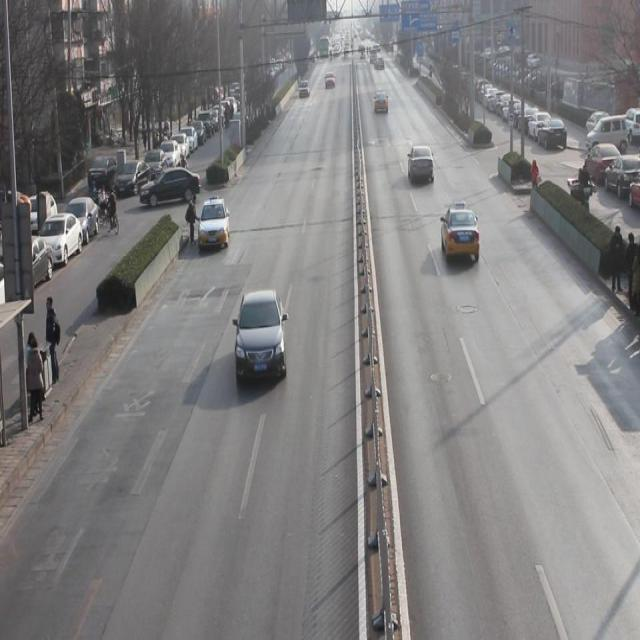car: (234, 291, 289, 390), (438, 205, 483, 264), (198, 196, 232, 254), (406, 143, 436, 186)
